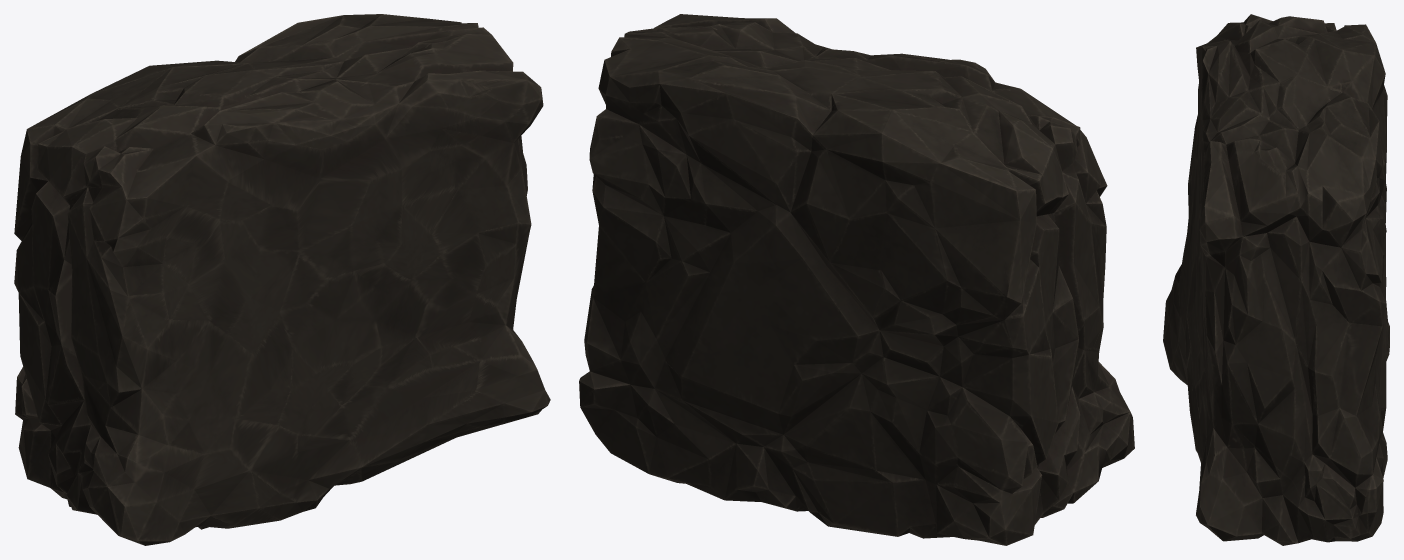
File: MKCave_BRockWallFlatSide2.FBX
The picture shows the model from 3 angles, left to right: view 1: azimuth 30°, elevation 25°; view 2: azimuth 150°, elevation 25°; view 3: azimuth 270°, elevation 25°; orthographic projection. The views are drawn at different scales.
Parts seen in each view (by area): view 1: MKCave_BRockWallFlatSide2_LOD0; view 2: MKCave_BRockWallFlatSide2_LOD0; view 3: MKCave_BRockWallFlatSide2_LOD0.
Boxes of the visible parts, bbox=[...] form: MKCave_BRockWallFlatSide2_LOD0: bbox=[14, 14, 550, 545]; MKCave_BRockWallFlatSide2_LOD0: bbox=[579, 14, 1134, 545]; MKCave_BRockWallFlatSide2_LOD0: bbox=[1163, 14, 1389, 545].
Size of the model in its own units: 994 by 448 by 862.
1 material, 1 textured.
